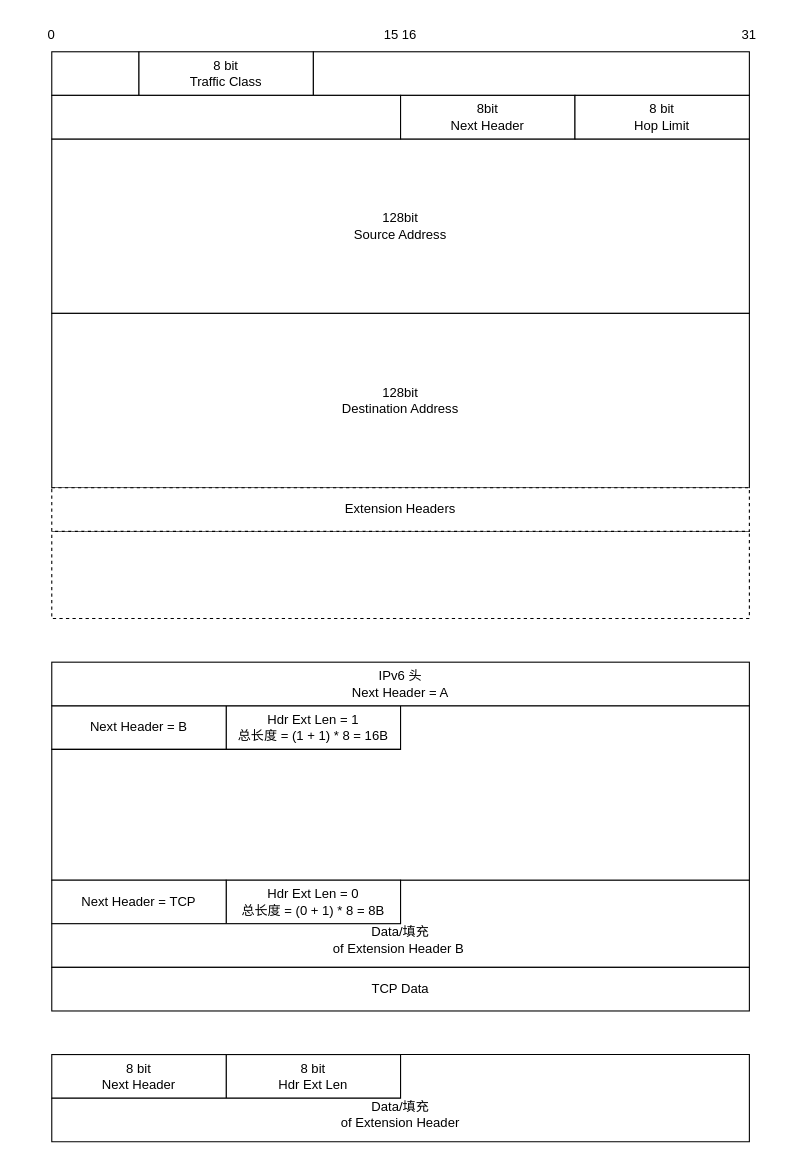
This 800x1161 diagram has some shape labels left out. The centre of each missing label's shape, as x and y in pixels:
"16 bit Payload Length" goes at point (226, 116).
"20 bit Flow Lable" goes at point (530, 73).
"4 bit Version" goes at point (95, 73).
"Data" goes at point (400, 574).
"Data/填充 of Extension Header A" goes at point (400, 792).
